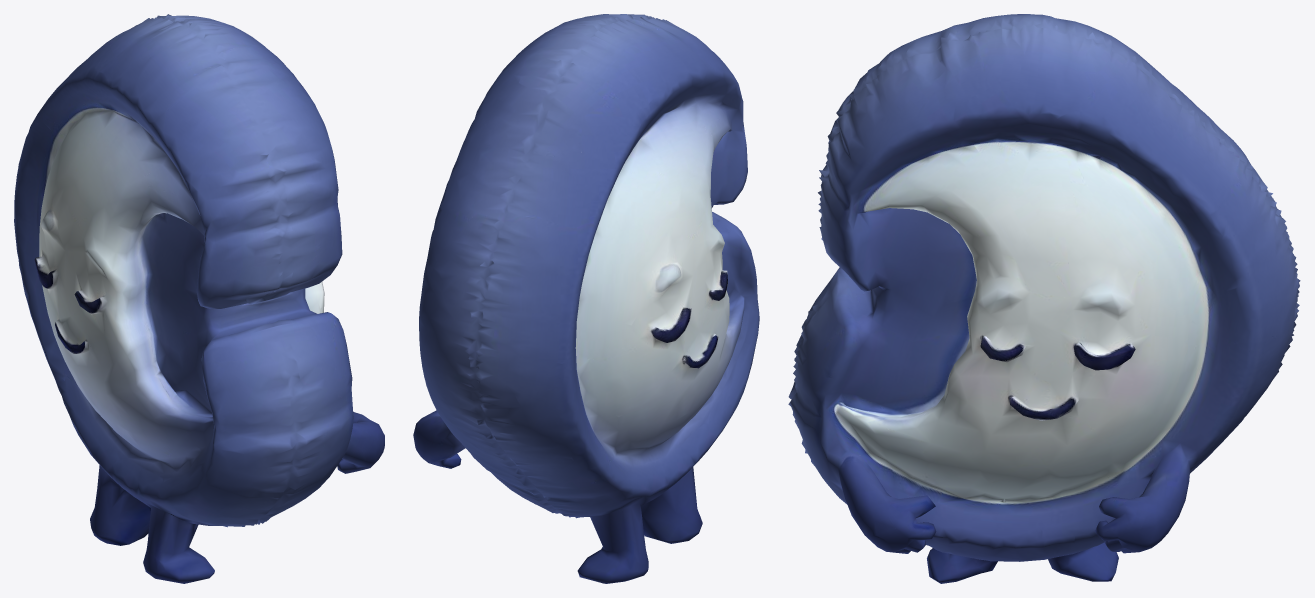
Rendered from moon.glb.
The picture shows the model from 3 angles, left to right: view 1: azimuth 30°, elevation 25°; view 2: azimuth 150°, elevation 25°; view 3: azimuth 270°, elevation 25°; orthographic projection. The views are drawn at different scales.
Parts seen in each view (by area): view 1: tripo_node_563048b4-b798-4562-b047-9b5e448df9e2; view 2: tripo_node_563048b4-b798-4562-b047-9b5e448df9e2; view 3: tripo_node_563048b4-b798-4562-b047-9b5e448df9e2.
Boxes of the visible parts, <box> form: tripo_node_563048b4-b798-4562-b047-9b5e448df9e2: <box>14,14,384,583</box>; tripo_node_563048b4-b798-4562-b047-9b5e448df9e2: <box>413,14,759,583</box>; tripo_node_563048b4-b798-4562-b047-9b5e448df9e2: <box>788,14,1300,583</box>.
Bounding box in the file's own units: 0.5022 × 1 × 0.8094.
1 material, 1 textured.
